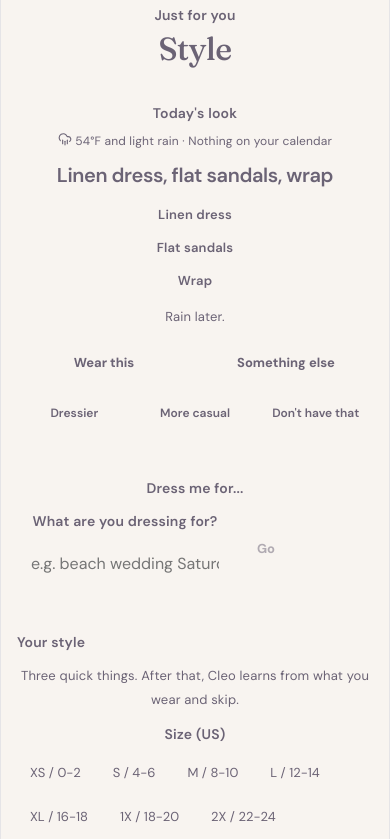
Scenario: Style screen › Dress me for... takes a typed occasion, checks it like any typed text, and shows a backup
The width and height of the screenshot is (390, 839).
Expected: the text "Linen dress, flat sandals, wrap" is shown, [57,162,333,188]
In the field with placeholder "e.g. beach wedding Saturday": (125, 563) [17,539,233,587], type "beach wedding Saturday"
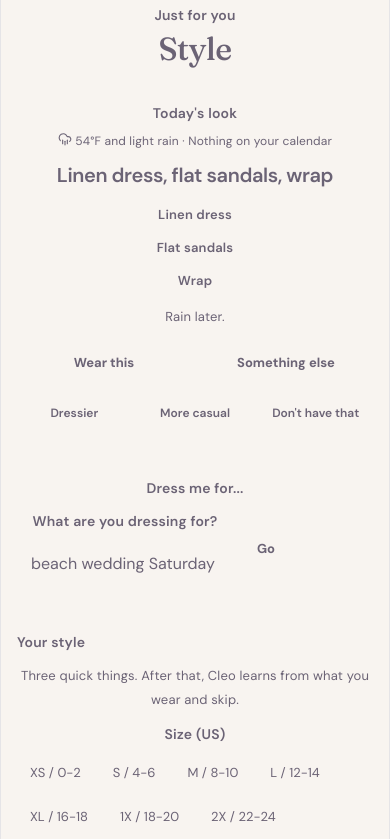
Click the button "Go": (266, 548) [241,510,291,587]
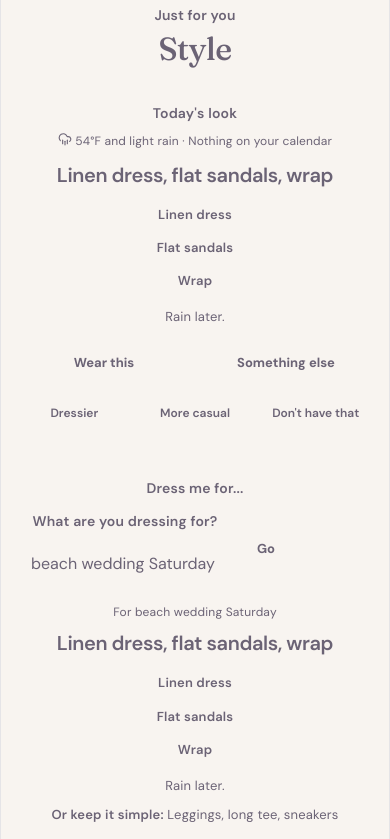
Result: the text "Or keep it simple:" is shown at [52,806,164,823]
Result: the text "For beach wedding Saturday" is shown at [113,604,277,620]
